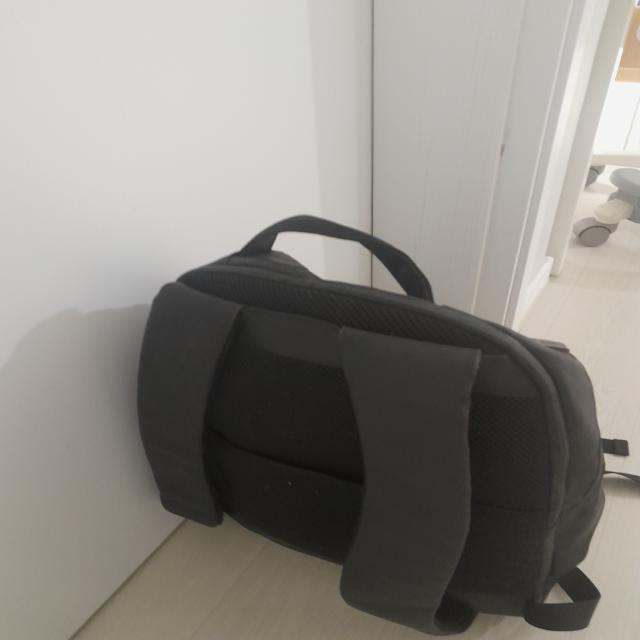backpack: (133, 212, 640, 633)
